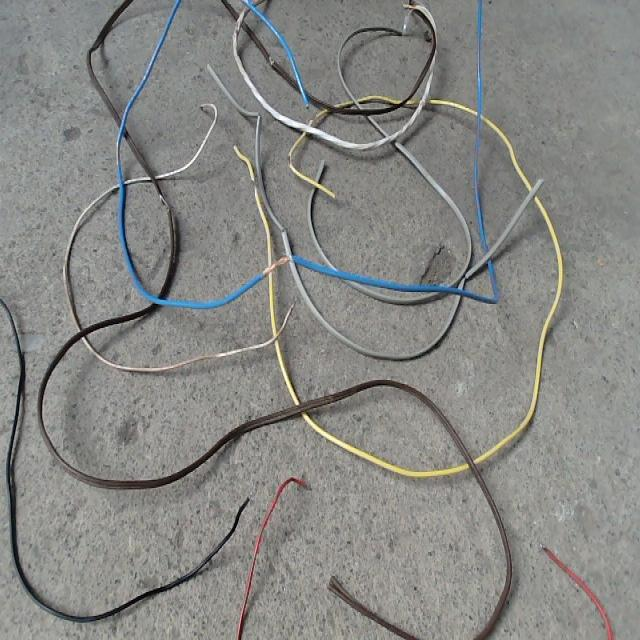-: (260, 254, 291, 274), (158, 193, 170, 211), (251, 178, 257, 198), (287, 152, 290, 165)
